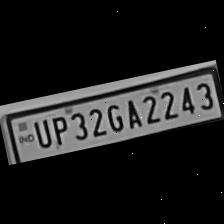2: (136, 90, 160, 127), (154, 86, 178, 122), (84, 103, 107, 139)
3: (192, 76, 216, 113), (65, 106, 89, 142)
4: (172, 82, 196, 118)
A: (119, 94, 142, 132)
G: (101, 100, 125, 134)
P: (46, 111, 72, 148)
U: (29, 116, 53, 151)
